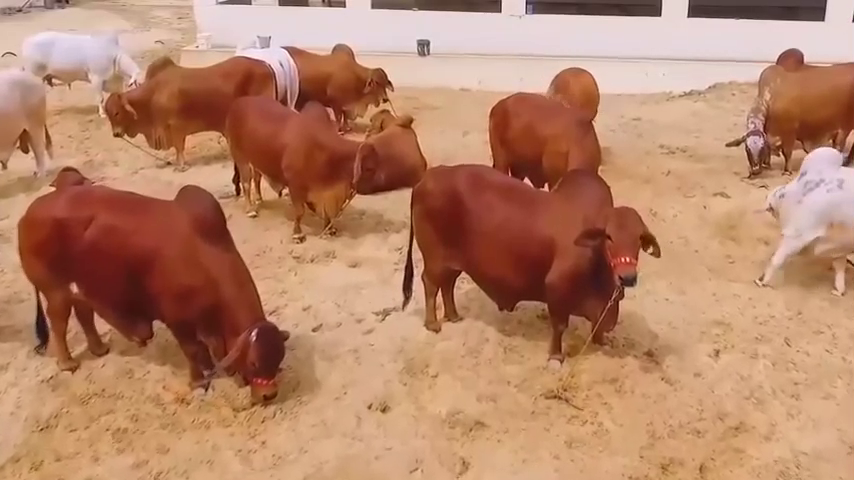bo: (16, 158, 298, 414), (399, 154, 638, 383), (213, 83, 374, 248), (105, 54, 281, 176), (748, 142, 854, 307), (477, 79, 613, 195), (735, 43, 852, 174), (283, 33, 404, 122), (18, 23, 144, 106), (345, 93, 419, 193), (1, 60, 55, 179), (537, 55, 614, 135), (240, 24, 301, 112)
